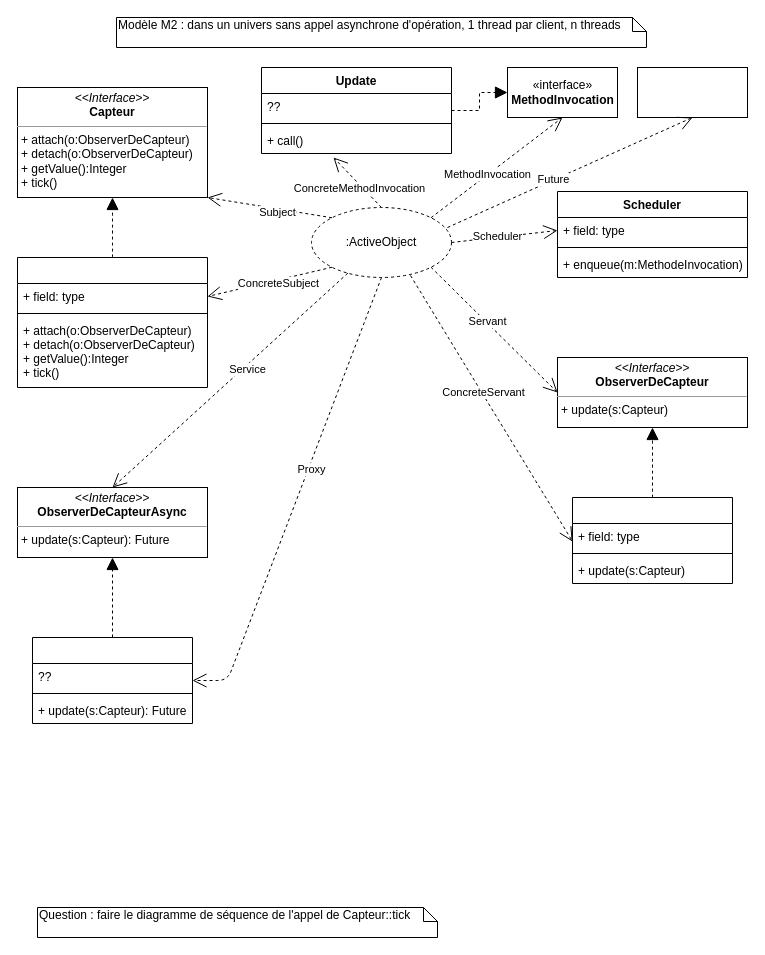
The diagram is 765 pixels wide and 955 high, and some of its shapes have lost their labels. The shapes that lost their labels are listed below. From the top down, each one's box as (x1, y1, x2, y2) in pixels, then its label:
(636, 66, 748, 118): «interface» Future
(16, 256, 208, 388): CapteurImpl
(572, 496, 732, 584): Afficheur
(32, 636, 192, 724): Canal
